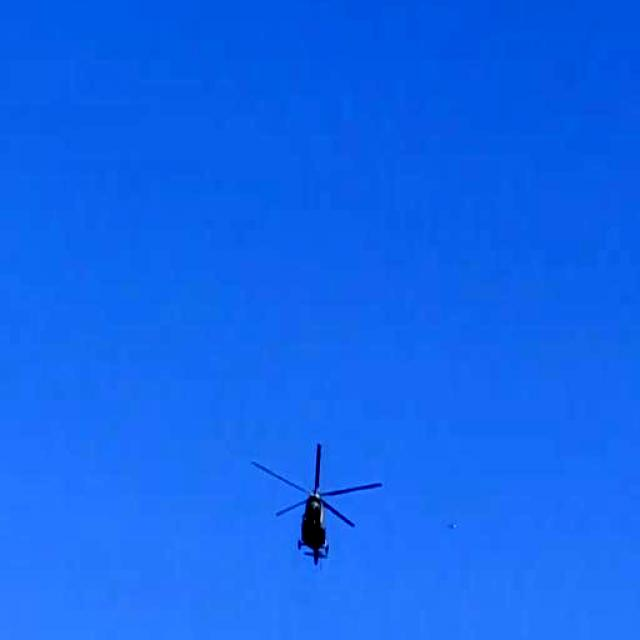drone: (252, 434, 380, 575)
